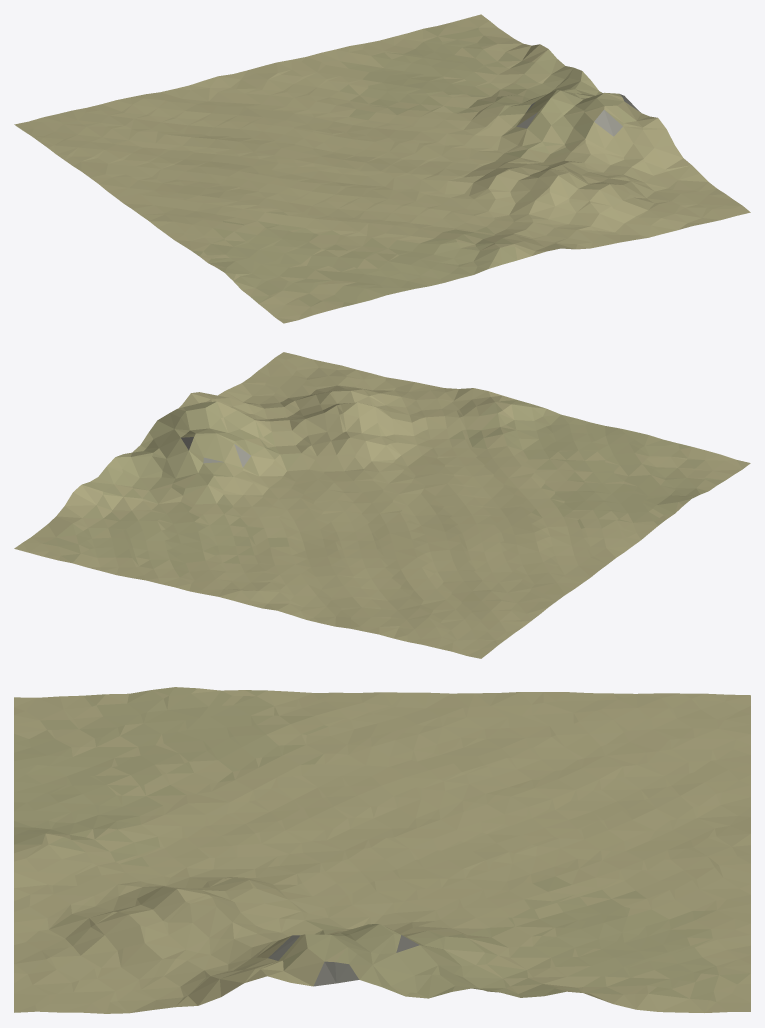
The model's file is Ground_5_-2.glb.
The picture shows the model from 3 angles, top to bottom: view 1: azimuth 30°, elevation 25°; view 2: azimuth 150°, elevation 25°; view 3: azimuth 270°, elevation 25°; orthographic projection. The views are drawn at different scales.
Parts seen in each view (by area): view 1: Ground_5_-2; view 2: Ground_5_-2; view 3: Ground_5_-2.
Part boxes in pixels (box(x1,y1,x2,y2)): Ground_5_-2: box(14, 14, 750, 323); Ground_5_-2: box(14, 352, 750, 658); Ground_5_-2: box(14, 687, 750, 1013).
Size of the model in its own units: 768 by 61.86 by 768.
